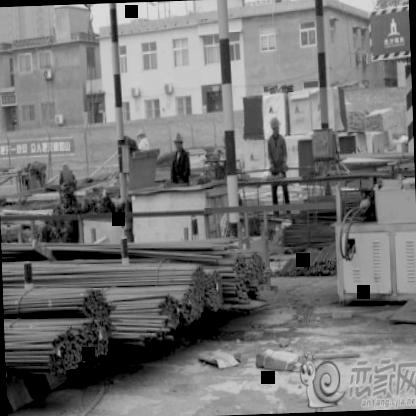helmet: (266, 113, 284, 138), (168, 130, 186, 154), (135, 124, 148, 142)
